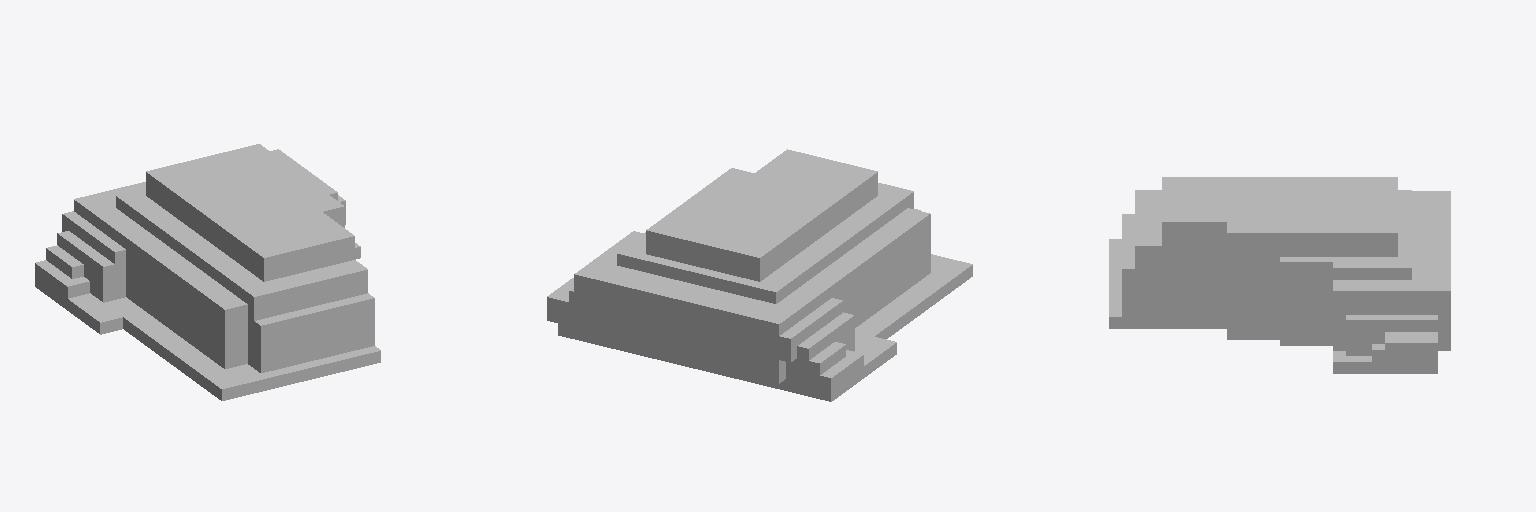
File: rock.obj
3 renders of one model, left to right at view 1: azimuth 30°, elevation 25°; view 2: azimuth 150°, elevation 25°; view 3: azimuth 270°, elevation 25°, orthographic.
Visible parts, largest first — view 1: object 1; view 2: object 1; view 3: object 1.
Part boxes in pixels (x1,y1,x2,y2): object 1: (35, 144, 380, 400); object 1: (547, 149, 972, 401); object 1: (1109, 177, 1450, 373).
Bounding box in the file's own units: 2.5 × 0.9 × 2.6.